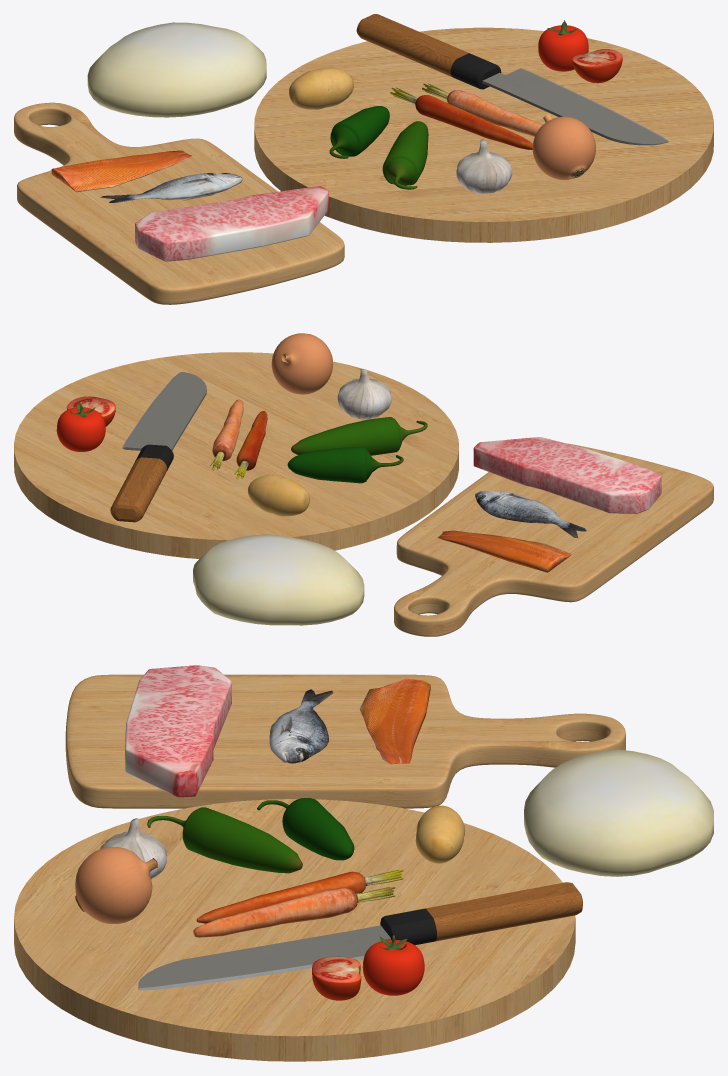
File: Recipes.glb
3 views of the same model, one above another, from view 1: azimuth 30°, elevation 25°; view 2: azimuth 150°, elevation 25°; view 3: azimuth 270°, elevation 25° (orthographic). The views are drawn at different scales.
Parts seen in each view (by area): view 1: Stand_10.001, Cutting Board.001, BREAD_DOUGH_2, wagyu_steak, knife3.001, ONION, salmon_filet, CARROT_2, jalapeño_big, POTATO, FISH, jalapeño_small (+4 smaller); view 2: Stand_10.001, Cutting Board.001, BREAD_DOUGH_2, wagyu_steak, knife3.001, ONION, jalapeño_big, jalapeño_small, salmon_filet, FISH, POTATO, garlic (+4 smaller); view 3: Stand_10.001, Cutting Board.001, BREAD_DOUGH_2, knife3.001, wagyu_steak, jalapeño_big, ONION, salmon_filet, CARROT_1, jalapeño_small, FISH, tomato (+4 smaller).
Boxes of the visible parts, x1=… form: Stand_10.001: x1=254, y1=27, x2=713, y2=242; Cutting Board.001: x1=14, y1=102, x2=344, y2=304; BREAD_DOUGH_2: x1=87, y1=22, x2=266, y2=117; wagyu_steak: x1=135, y1=186, x2=328, y2=261; knife3.001: x1=356, y1=14, x2=668, y2=145; ONION: x1=532, y1=114, x2=595, y2=179; salmon_filet: x1=51, y1=150, x2=191, y2=192; CARROT_2: x1=390, y1=87, x2=532, y2=149; jalapeño_big: x1=382, y1=121, x2=428, y2=189; POTATO: x1=289, y1=67, x2=354, y2=109; FISH: x1=100, y1=173, x2=242, y2=202; jalapeño_small: x1=329, y1=106, x2=389, y2=158; Stand_10.001: x1=14, y1=352, x2=458, y2=558; Cutting Board.001: x1=394, y1=443, x2=713, y2=636; BREAD_DOUGH_2: x1=193, y1=534, x2=364, y2=625; wagyu_steak: x1=473, y1=437, x2=661, y2=513; knife3.001: x1=110, y1=372, x2=206, y2=522; ONION: x1=271, y1=333, x2=332, y2=394; jalapeño_big: x1=291, y1=417, x2=427, y2=455; jalapeño_small: x1=287, y1=446, x2=403, y2=483; salmon_filet: x1=437, y1=530, x2=571, y2=572; FISH: x1=475, y1=490, x2=586, y2=537; POTATO: x1=248, y1=475, x2=309, y2=516; garlic: x1=337, y1=369, x2=391, y2=418; Stand_10.001: x1=14, y1=799, x2=575, y2=1061; Cutting Board.001: x1=65, y1=674, x2=625, y2=808; BREAD_DOUGH_2: x1=524, y1=749, x2=713, y2=876; knife3.001: x1=138, y1=882, x2=582, y2=990; wagyu_steak: x1=125, y1=665, x2=231, y2=797; jalapeño_big: x1=147, y1=807, x2=302, y2=873; ONION: x1=75, y1=847, x2=158, y2=923; salmon_filet: x1=359, y1=678, x2=430, y2=764; CARROT_1: x1=193, y1=887, x2=395, y2=937; jalapeño_small: x1=257, y1=798, x2=354, y2=860; FISH: x1=269, y1=689, x2=333, y2=763; tomato: x1=362, y1=935, x2=424, y2=995.
Bounding box in the file's own units: 6.92 × 0.8648 × 5.62.
Materials: 18 (18 with a texture image).
